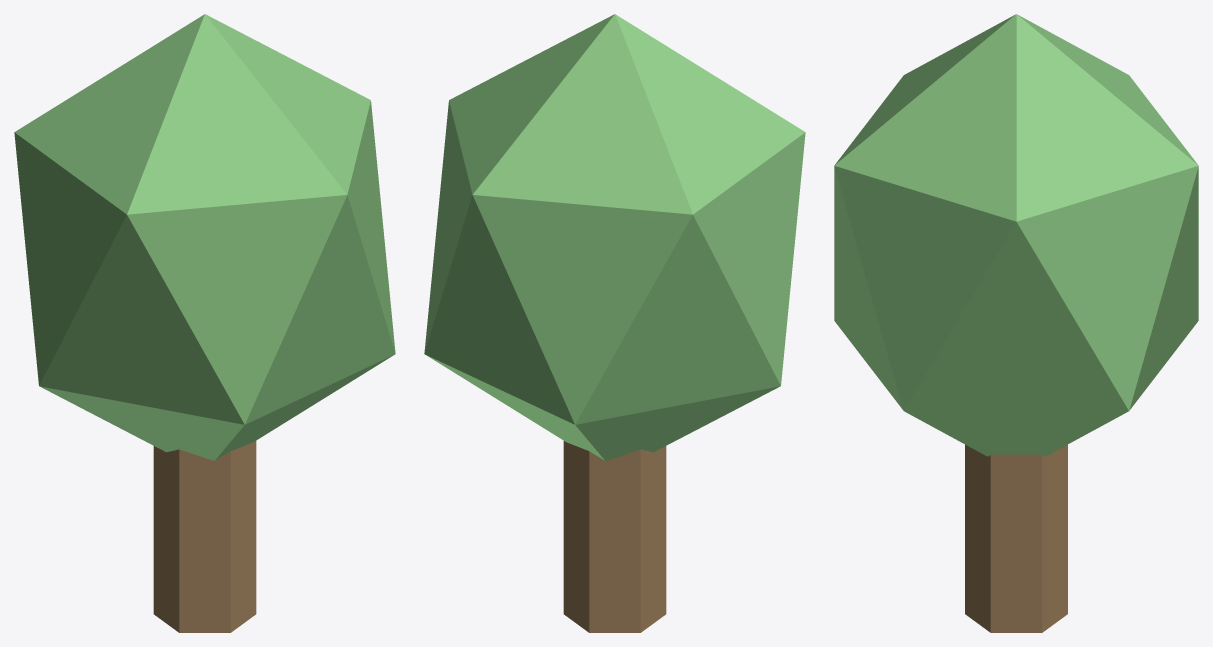
Rendered from tree.glb.
3 renders of one model, left to right at view 1: azimuth 30°, elevation 25°; view 2: azimuth 150°, elevation 25°; view 3: azimuth 270°, elevation 25°, orthographic.
Visible parts, largest first — view 1: tree; view 2: tree; view 3: tree.
Part boxes in pixels (x1=…): tree: x1=14, y1=14, x2=395, y2=632; tree: x1=424, y1=14, x2=805, y2=632; tree: x1=834, y1=14, x2=1198, y2=632.
Size of the model in its own units: 0.8944 by 1.54 by 0.8506.
